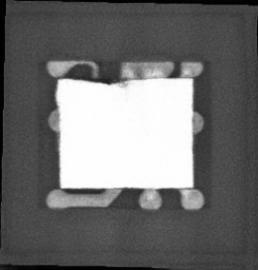DIE_BROKEN: (71, 75, 131, 86)
